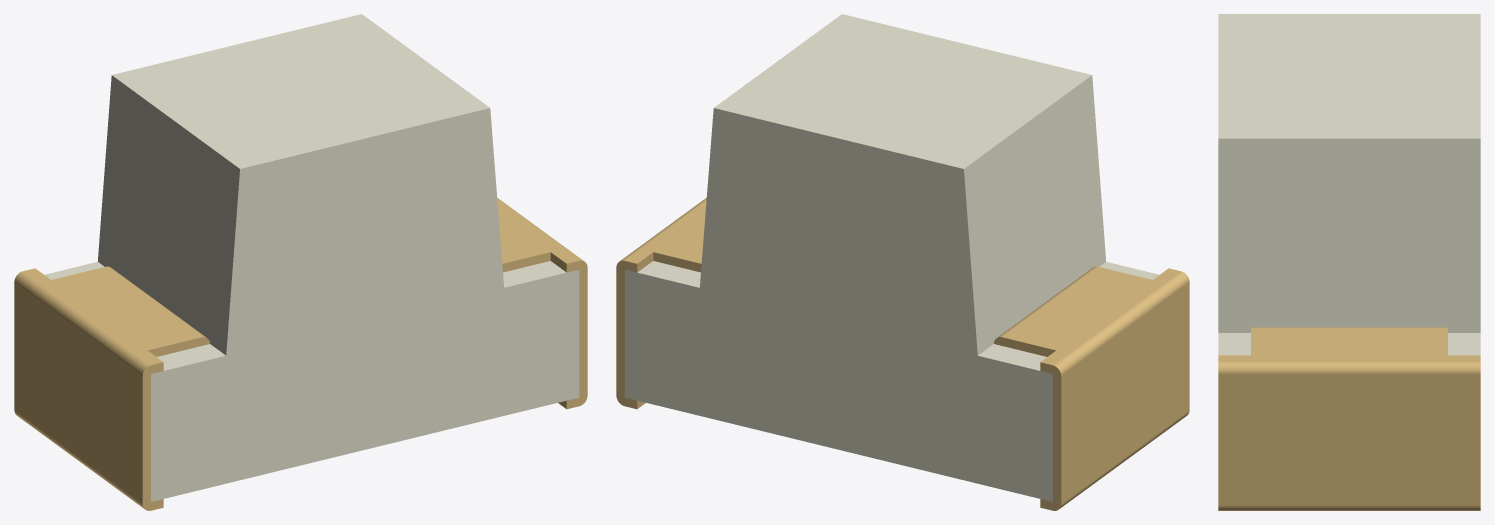
File: led-0603.glb
The picture shows the model from 3 angles, left to right: view 1: azimuth 30°, elevation 25°; view 2: azimuth 150°, elevation 25°; view 3: azimuth 270°, elevation 25°; orthographic projection. The views are drawn at different scales.
Visible parts, largest first — view 1: LED_0603_1608Metric_75daee, LED_0603_1608Metric_20fe56; view 2: LED_0603_1608Metric_75daee, LED_0603_1608Metric_20fe56; view 3: LED_0603_1608Metric_75daee, LED_0603_1608Metric_20fe56.
Boxes of the visible parts, x1=… form: LED_0603_1608Metric_75daee: x1=44, y1=14, x2=579, y2=501; LED_0603_1608Metric_20fe56: x1=14, y1=198, x2=587, y2=510; LED_0603_1608Metric_75daee: x1=624, y1=14, x2=1159, y2=501; LED_0603_1608Metric_20fe56: x1=616, y1=198, x2=1189, y2=510; LED_0603_1608Metric_75daee: x1=1218, y1=14, x2=1480, y2=355; LED_0603_1608Metric_20fe56: x1=1218, y1=327, x2=1480, y2=510.
Bounding box in the file's own units: 1.6 × 1.1 × 0.8.
